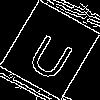U: (24, 25, 81, 83)
